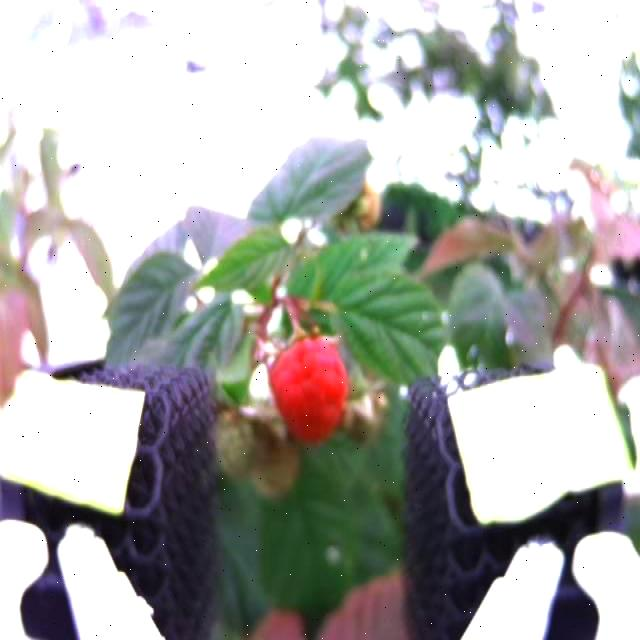Riped berries: (267, 332, 350, 443)
